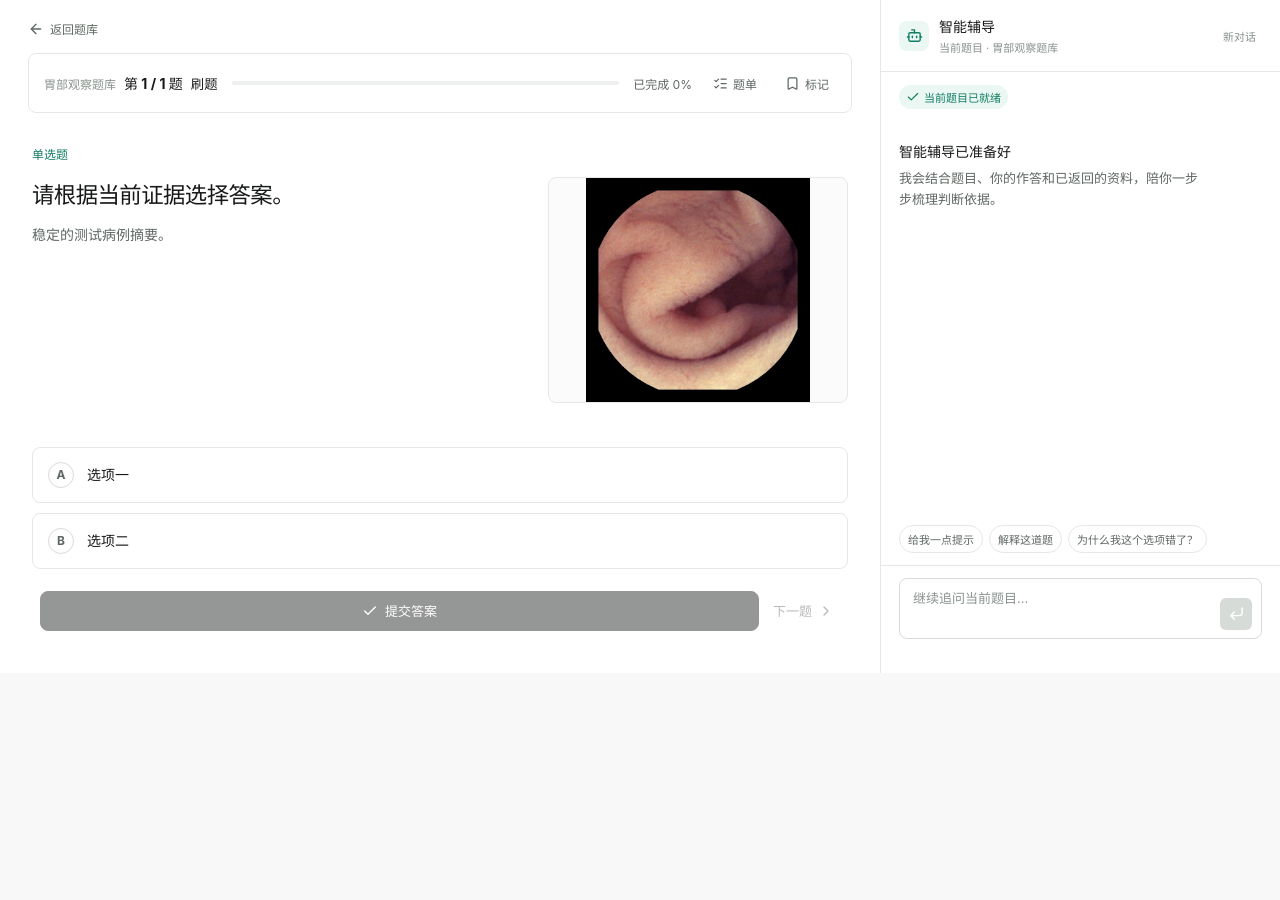
Test case: Stage 1 page contracts › uses an honest missing-explanation state without adding an AI grading fallback
This screenshot has width=1280, height=900.
Click the button "A 选项一" at [108, 474], box [32,446,848,502]
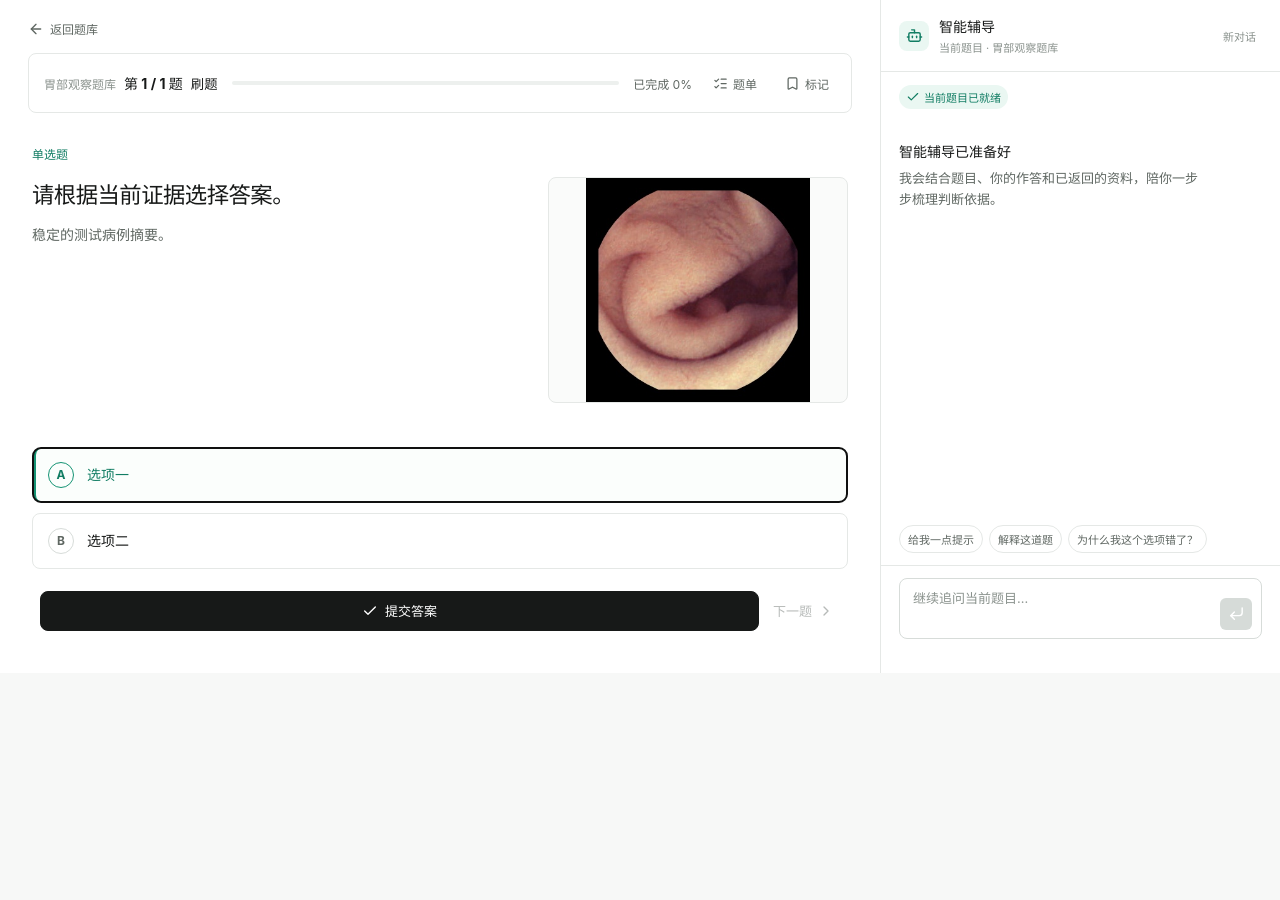
Click the button with test id "submit-answer" at [400, 610], box [40,590,759,630]
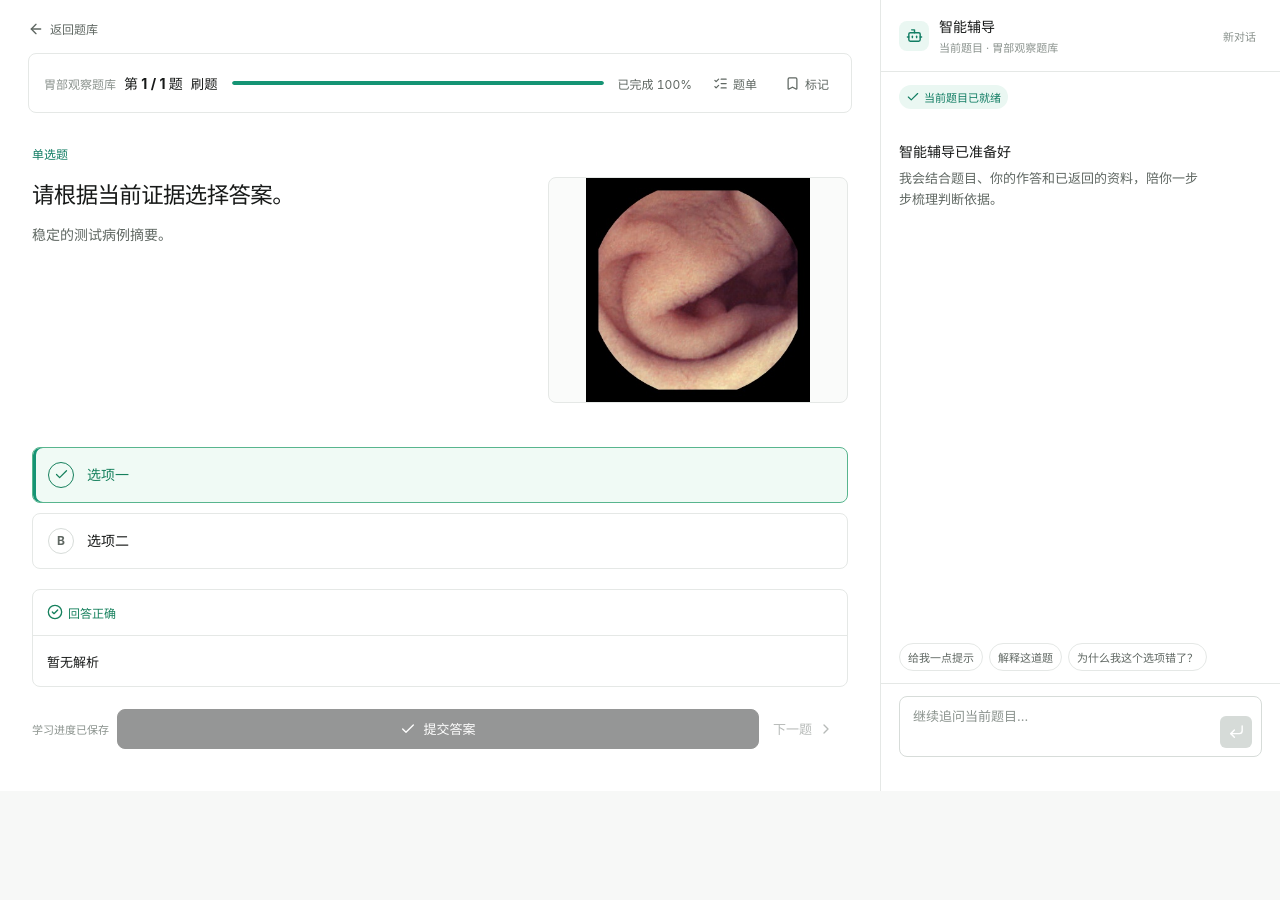
Now the text "暂无解析" is shown, box [47,654,99,670]
